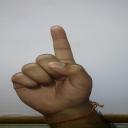hand: (12, 25, 93, 118)
